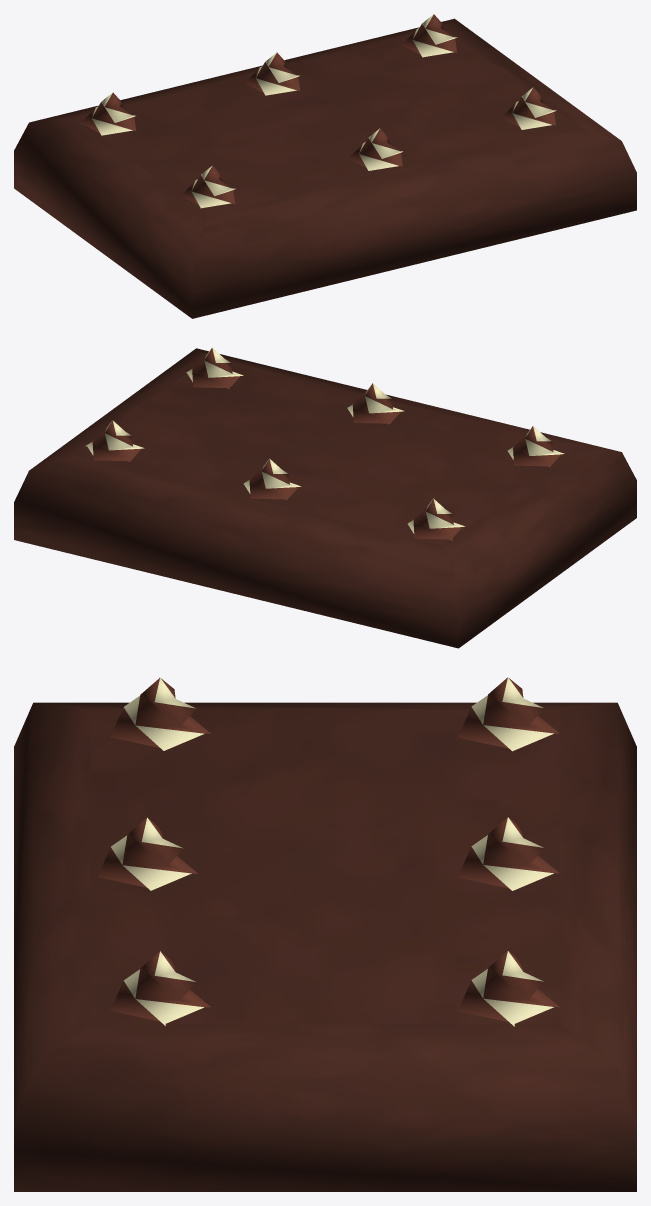
Rendered from Sheet_Cake_A.FBX.
The picture shows the model from 3 angles, top to bottom: view 1: azimuth 30°, elevation 25°; view 2: azimuth 150°, elevation 25°; view 3: azimuth 270°, elevation 25°; orthographic projection. The views are drawn at different scales.
Visible parts, largest first — view 1: Sheet Cake; view 2: Sheet Cake; view 3: Sheet Cake.
Boxes of the visible parts, bbox=[...] form: Sheet Cake: bbox=[14, 14, 636, 318]; Sheet Cake: bbox=[14, 347, 636, 648]; Sheet Cake: bbox=[14, 677, 636, 1191].
Size of the model in its own units: 180 by 41.76 by 125.
